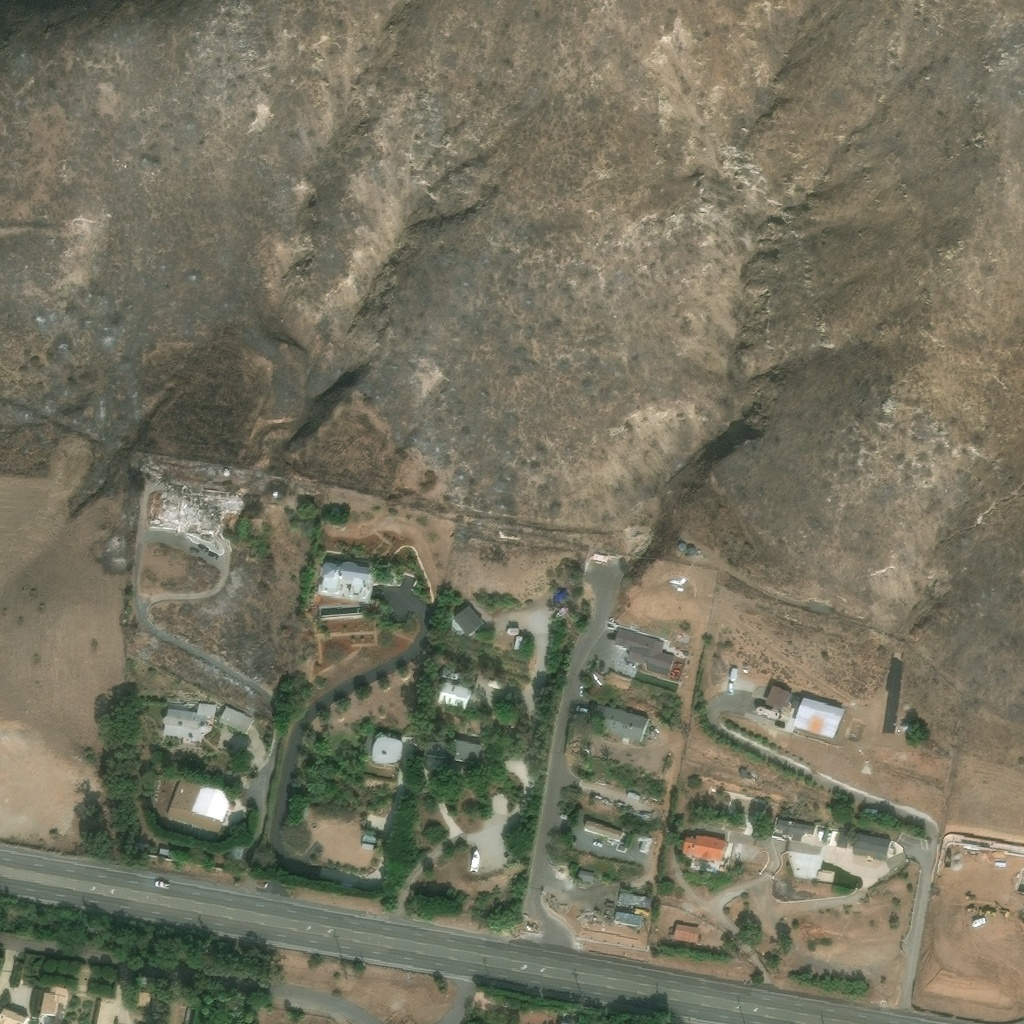0 no-damage: (165, 777, 230, 834), (611, 626, 674, 676), (789, 691, 844, 740), (585, 703, 649, 743), (160, 701, 216, 746), (315, 560, 373, 601), (787, 840, 823, 880), (680, 833, 726, 862), (215, 703, 256, 734), (369, 731, 403, 768), (453, 601, 484, 638), (851, 832, 889, 862), (582, 817, 623, 842), (437, 680, 470, 711), (775, 816, 815, 841), (38, 985, 68, 1016), (762, 682, 792, 711), (450, 738, 482, 762), (616, 891, 648, 910), (671, 922, 699, 943), (613, 910, 644, 928), (0, 1006, 30, 1023), (1010, 867, 1023, 895), (575, 868, 595, 883), (815, 869, 835, 883), (637, 835, 651, 854), (557, 1010, 576, 1023), (362, 828, 377, 843), (737, 767, 751, 779), (625, 791, 639, 801), (513, 636, 522, 649), (157, 847, 170, 855), (676, 541, 686, 551), (135, 1006, 149, 1013), (686, 546, 696, 555), (133, 841, 144, 849), (900, 723, 910, 731), (221, 468, 229, 477), (509, 628, 519, 635)
1 minor-damage: (270, 490, 278, 497)
3 destroyed: (147, 478, 216, 535), (212, 494, 238, 512)
